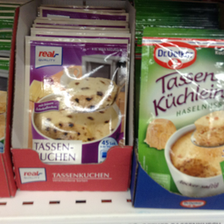cake: (23, 34, 131, 171), (139, 26, 224, 198)
